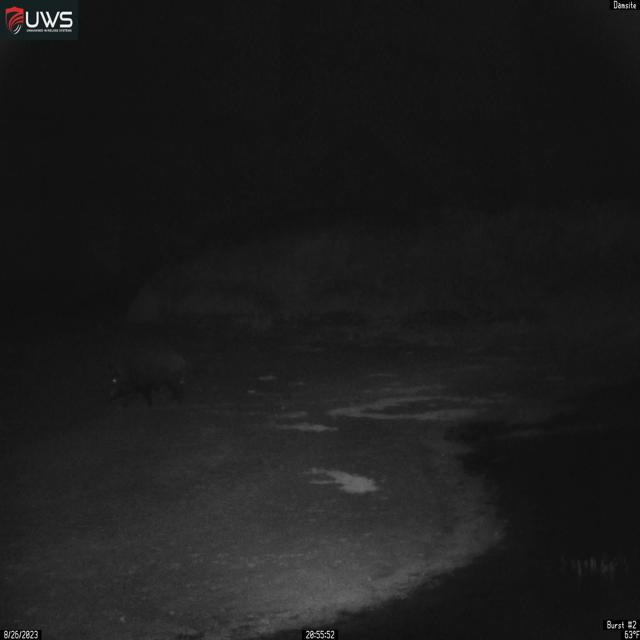pig: (106, 341, 190, 410)
